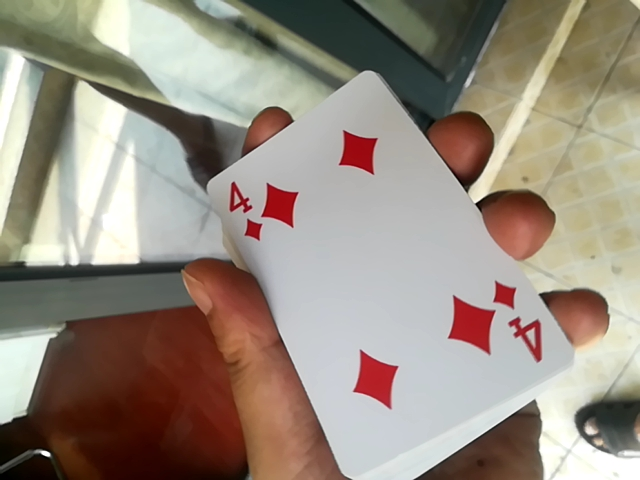fk 4: (158, 71, 556, 474)
